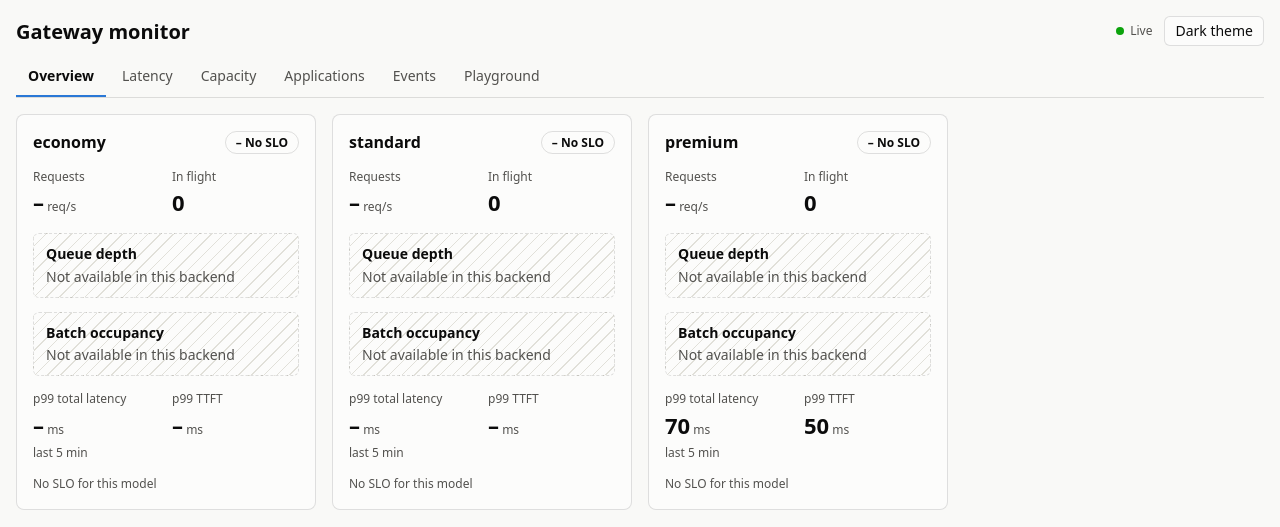
Test case: Applications tab › says applications are not available when the gateway has no plans
Click the tab "Applications" at (325, 77), box [272,58,377,97]
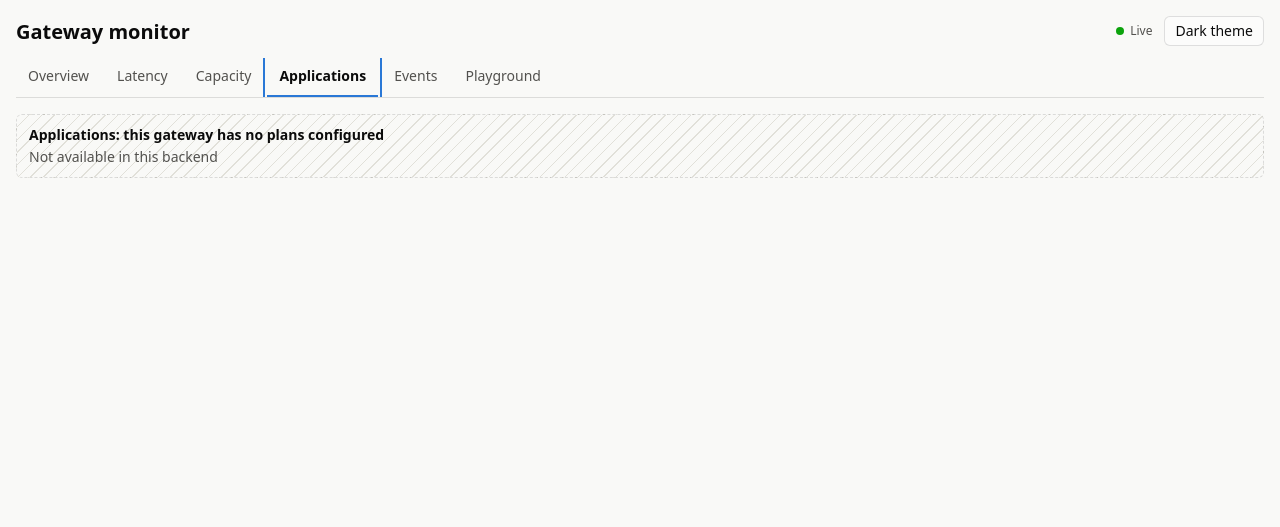
Check: the text "Not available in this backend" is shown, box [29,147,218,166]
